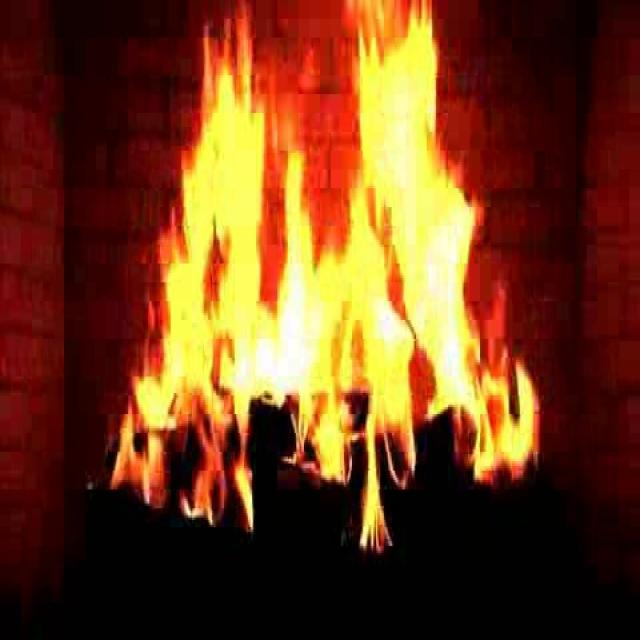fire: (129, 20, 507, 508)
